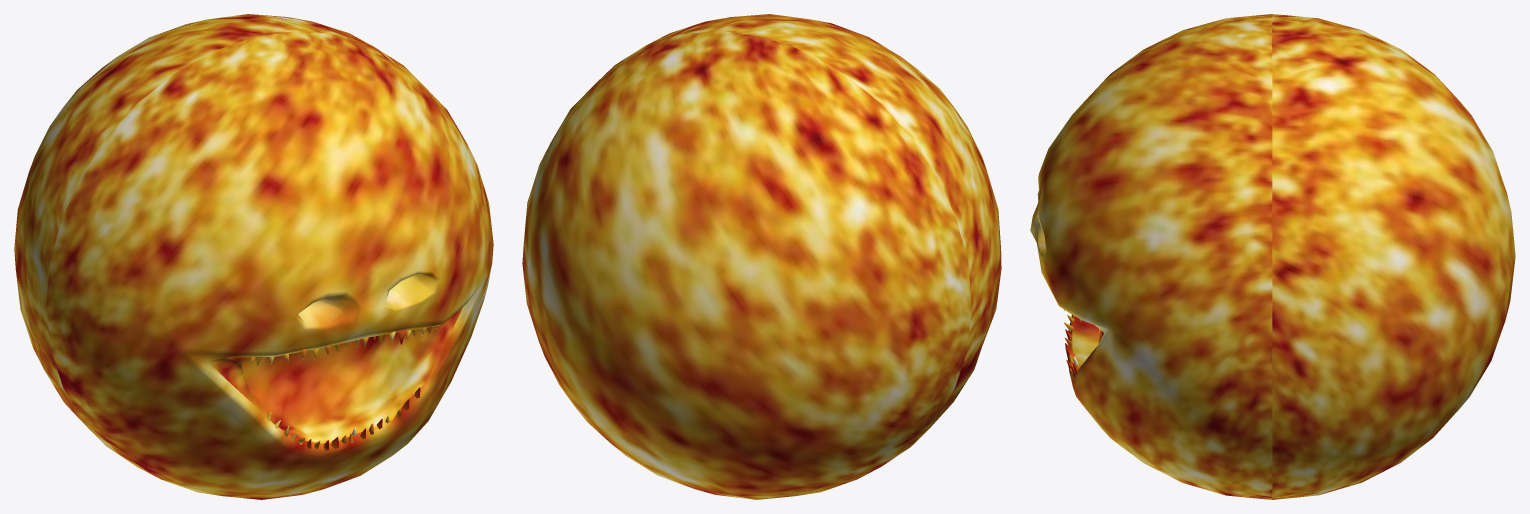
The model's file is the_sun_woke_up.glb.
The picture shows the model from 3 angles, left to right: view 1: azimuth 30°, elevation 25°; view 2: azimuth 150°, elevation 25°; view 3: azimuth 270°, elevation 25°; orthographic projection.
Visible parts, largest first — view 1: Moon WokeUp; view 2: Moon WokeUp; view 3: Moon WokeUp.
Part boxes in pixels (box(x1,y1,x2,y2)): Moon WokeUp: box(14, 14, 493, 499); Moon WokeUp: box(522, 14, 1001, 499); Moon WokeUp: box(1030, 14, 1515, 499).
Size of the model in its own units: 4.73 by 4.77 by 4.75.
Materials: 1 (1 with a texture image).
